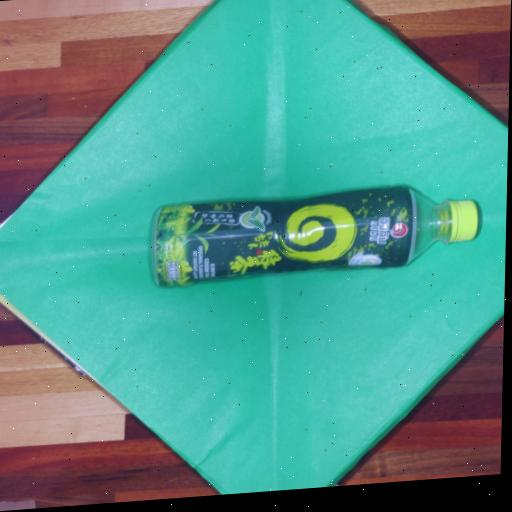bottle: (148, 186, 478, 285)
